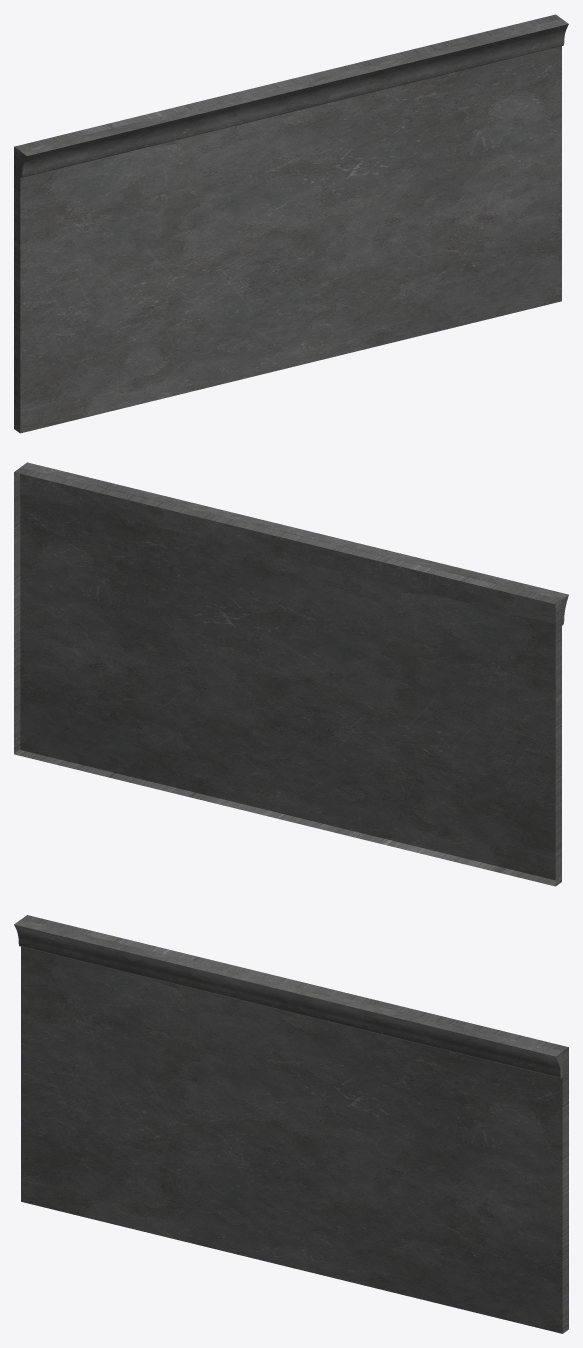
Rendered from wall carving working.fbx.
3 views of the same model, one above another, from view 1: azimuth 30°, elevation 25°; view 2: azimuth 150°, elevation 25°; view 3: azimuth 330°, elevation 25° (orthographic).
Visible parts, largest first — view 1: Cube.011; view 2: Cube.011; view 3: Cube.011.
Boxes of the visible parts, x1,y1,x2,y2 form: Cube.011: [14, 14, 568, 433]; Cube.011: [14, 462, 568, 886]; Cube.011: [14, 915, 568, 1333].
Size of the model in its own units: 1405 by 700 by 59.27.
